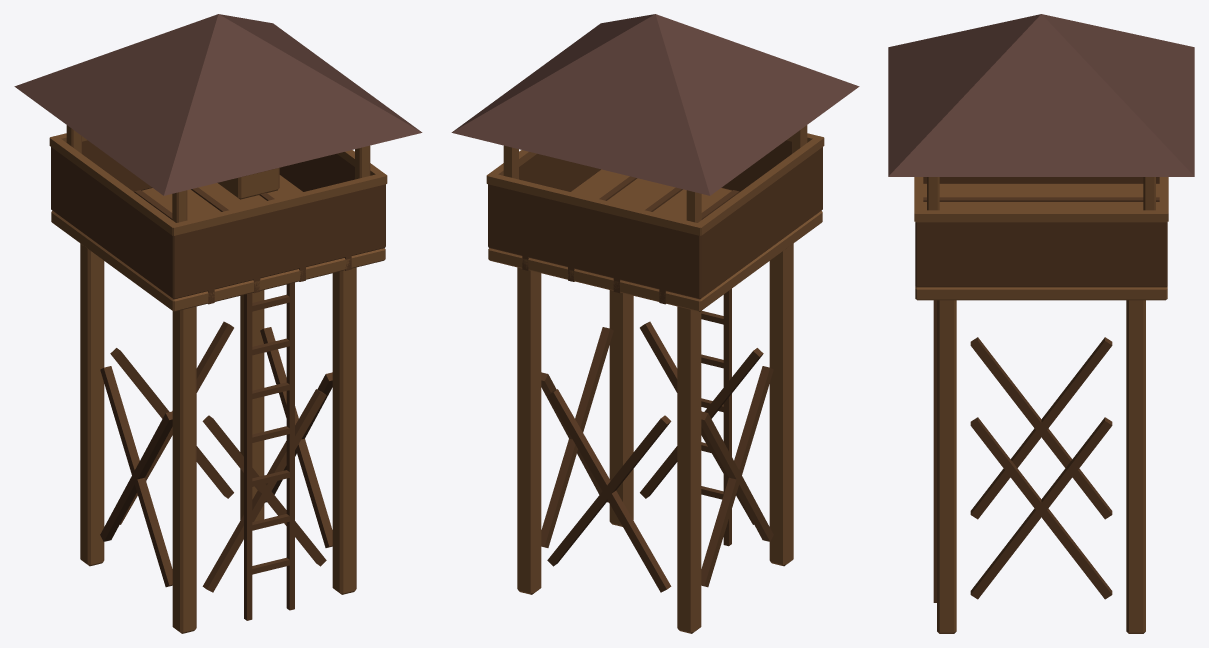
The model's file is bld_watchtower.glb.
3 views of the same model, side by side, from view 1: azimuth 30°, elevation 25°; view 2: azimuth 150°, elevation 25°; view 3: azimuth 270°, elevation 25° (orthographic). The views are drawn at different scales.
Parts seen in each view (by area): view 1: bld_watchtower; view 2: bld_watchtower; view 3: bld_watchtower.
Part boxes in pixels (x1,y1,x2,y2): bld_watchtower: (14,14,422,633); bld_watchtower: (451,14,859,633); bld_watchtower: (888,14,1194,633).
Size of the model in its own units: 3.4 by 7.06 by 3.4.
